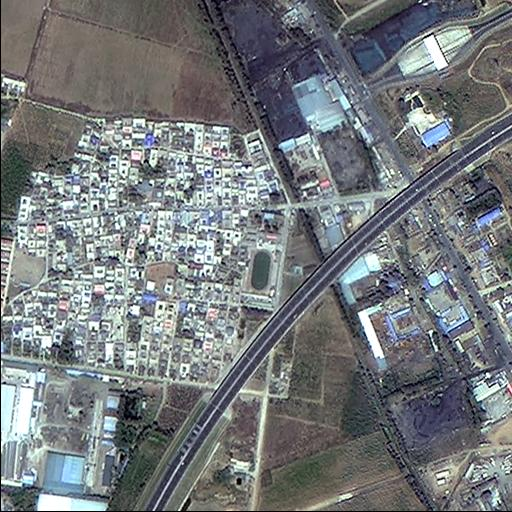school: (238, 208, 285, 311)
